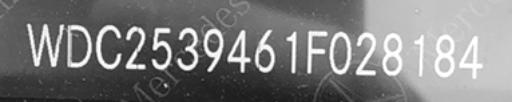letter: (23, 21, 65, 68), (94, 23, 122, 72), (67, 22, 93, 70), (226, 27, 252, 75), (457, 34, 485, 78), (304, 27, 328, 76), (254, 27, 278, 75), (328, 28, 352, 76), (124, 25, 148, 72), (354, 29, 378, 76), (201, 27, 225, 73), (149, 25, 173, 70), (381, 31, 405, 76), (176, 26, 198, 72), (433, 34, 455, 78), (284, 29, 300, 77), (411, 31, 427, 76)
